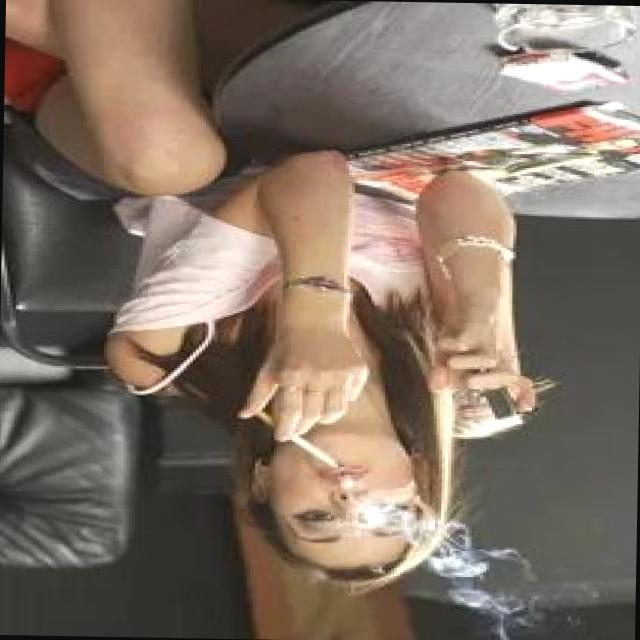cigarette: (240, 402, 344, 474)
